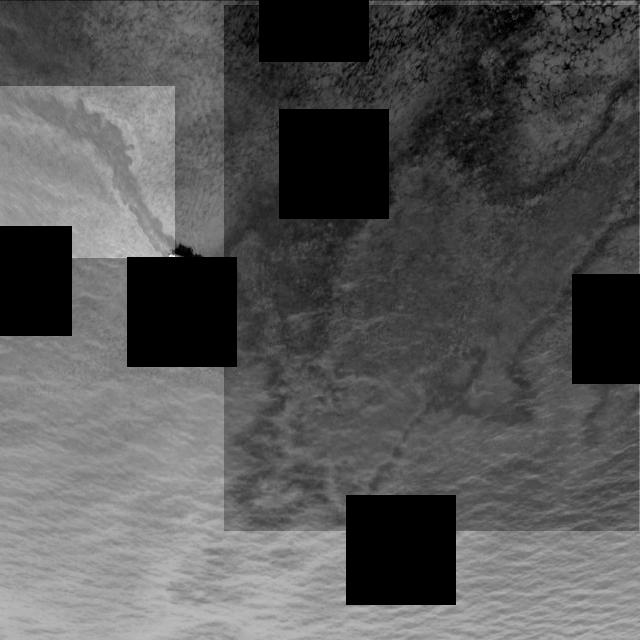oil spill: (225, 6, 639, 531), (0, 86, 175, 258)
